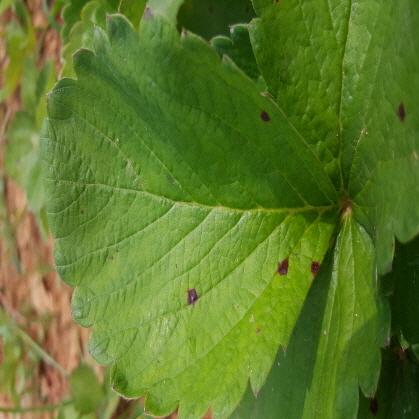Leaf Spot: (39, 5, 343, 418), (247, 0, 418, 275), (177, 0, 256, 42)
